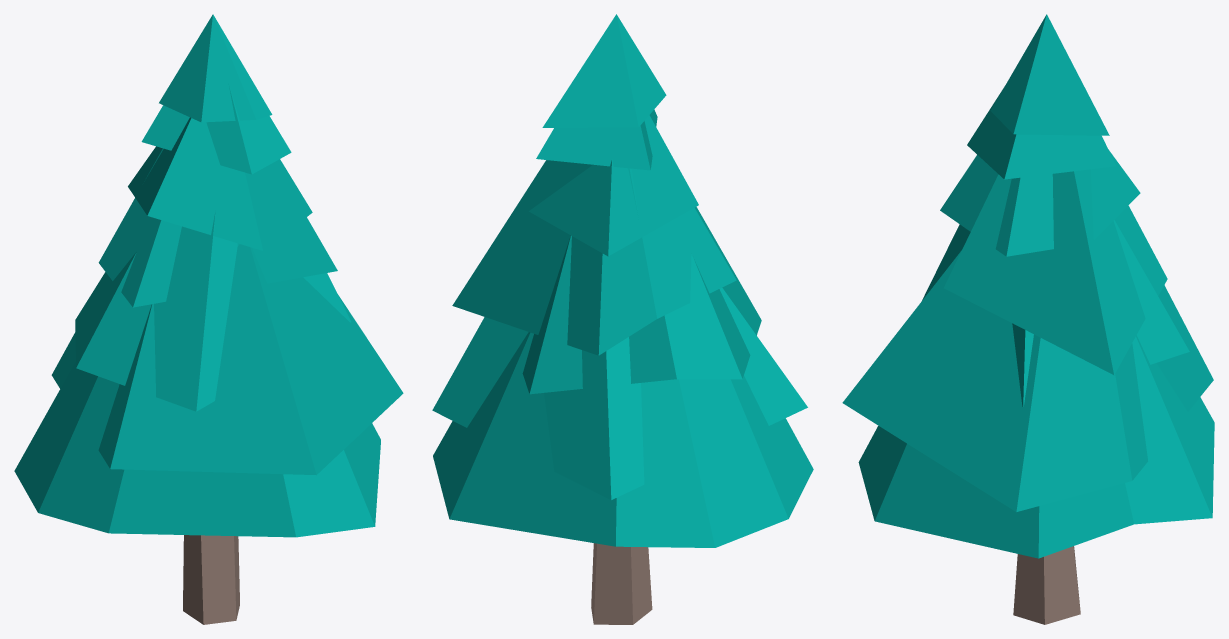
File: low ass poly pine.fbx
The picture shows the model from 3 angles, left to right: view 1: azimuth 30°, elevation 25°; view 2: azimuth 150°, elevation 25°; view 3: azimuth 270°, elevation 25°; orthographic projection.
Parts seen in each view (by area): view 1: low_ass_poly_tree; view 2: low_ass_poly_tree; view 3: low_ass_poly_tree.
Boxes of the visible parts, x1,y1,x2,y2 form: low_ass_poly_tree: [14, 14, 403, 624]; low_ass_poly_tree: [432, 14, 813, 624]; low_ass_poly_tree: [842, 14, 1214, 624].
Size of the model in its own units: 1.54 by 2.52 by 1.42.
